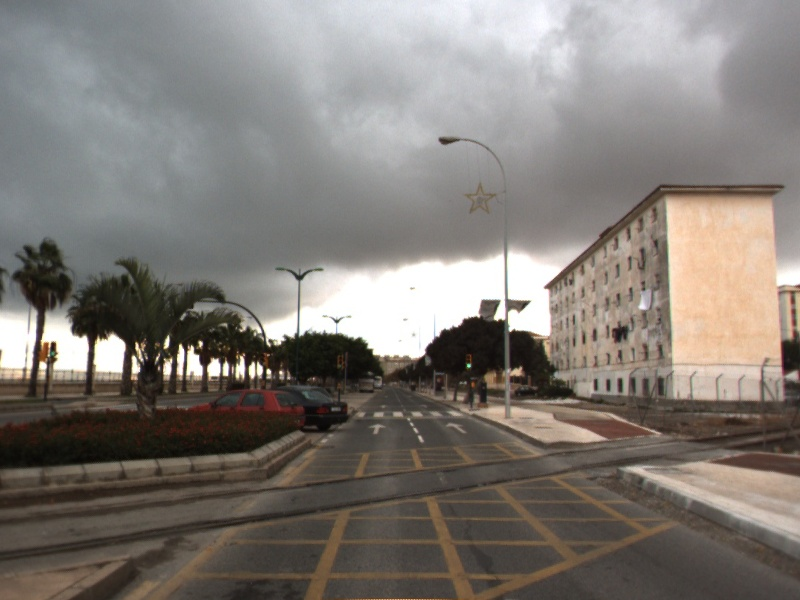STRAIGHT: (444, 420, 469, 435), (366, 422, 388, 436)
